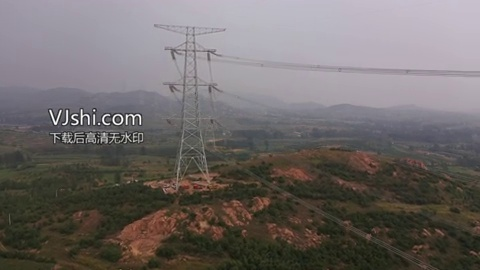tower_body: (153, 18, 233, 191)
tower_foot: (174, 151, 212, 188)
tower_head: (155, 20, 230, 57)
